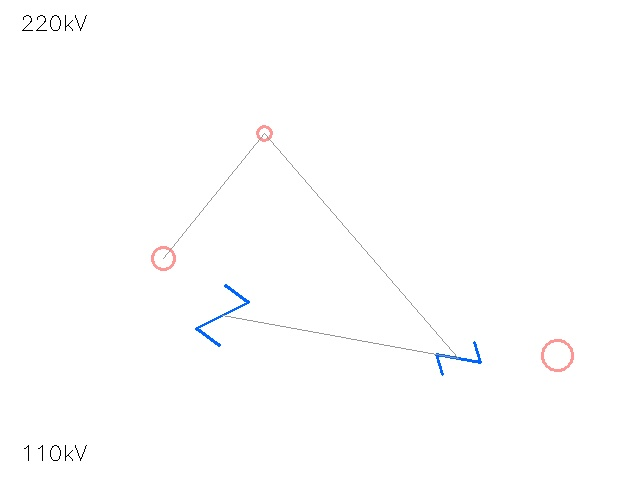circuit_breaker: (193, 286, 251, 344), (436, 336, 480, 380)
disconnect_switch: (141, 236, 185, 280)
reactor: (249, 118, 279, 148)
surge_arrester: (527, 325, 587, 385)
